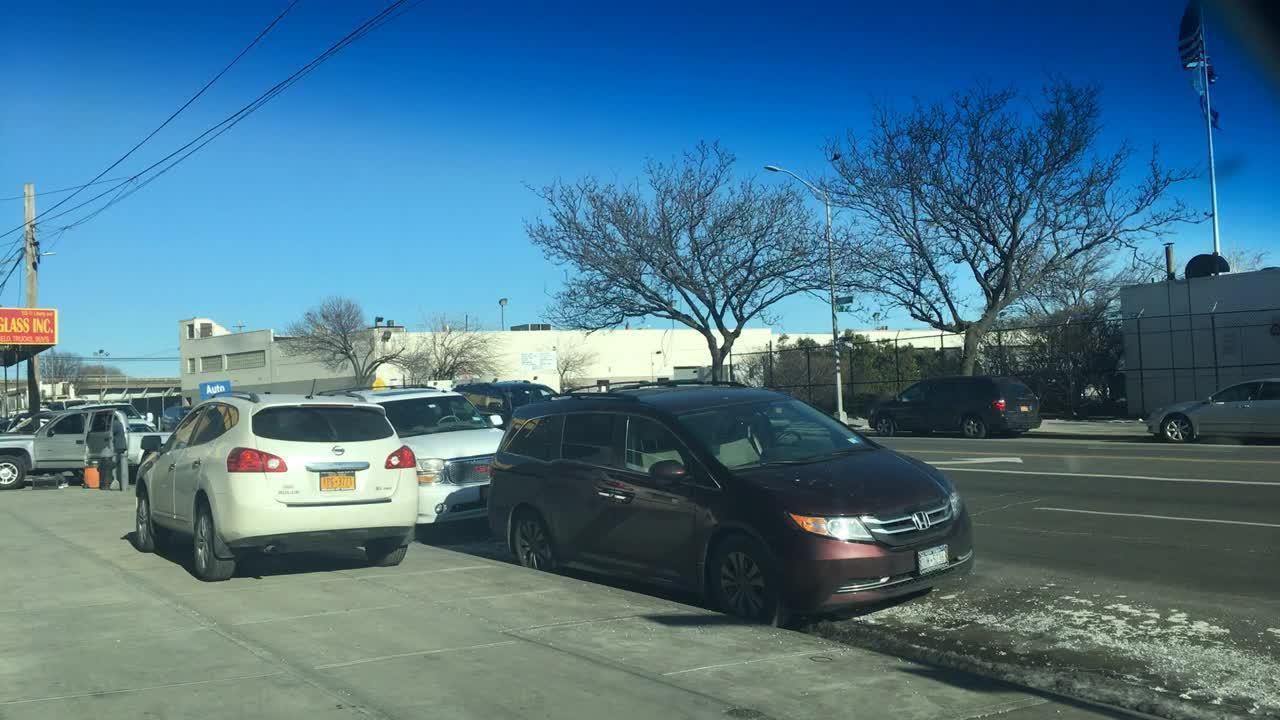Honda: (911, 511, 931, 531)
Nissan: (328, 441, 351, 462)
